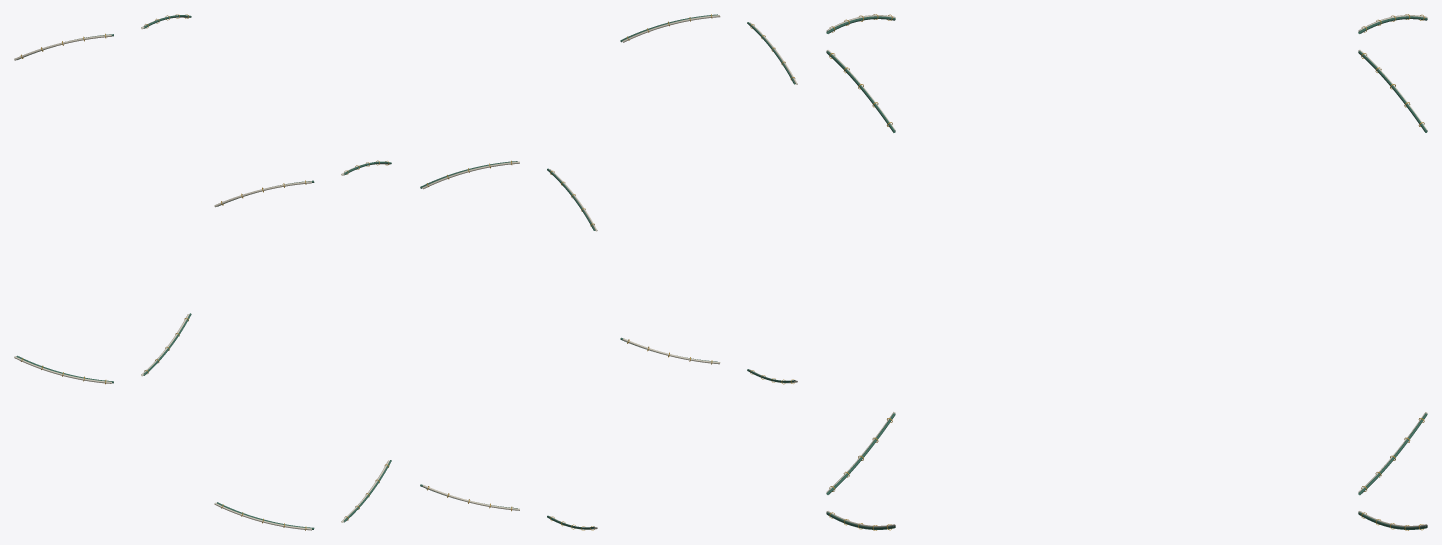
The model's file is tank4200_harness.obj.
3 views of the same model, side by side, from view 1: azimuth 30°, elevation 25°; view 2: azimuth 150°, elevation 25°; view 3: azimuth 270°, elevation 25° (orthographic). The views are drawn at different scales.
Visible parts, largest first — view 1: tank4200_harness; view 2: tank4200_harness; view 3: tank4200_harness.
Boxes of the visible parts, x1,y1,x2,y2 form: tank4200_harness: [14, 14, 391, 530]; tank4200_harness: [420, 14, 797, 530]; tank4200_harness: [826, 14, 1427, 530].
Size of the model in its own units: 6.5 by 12.26 by 14.36.
